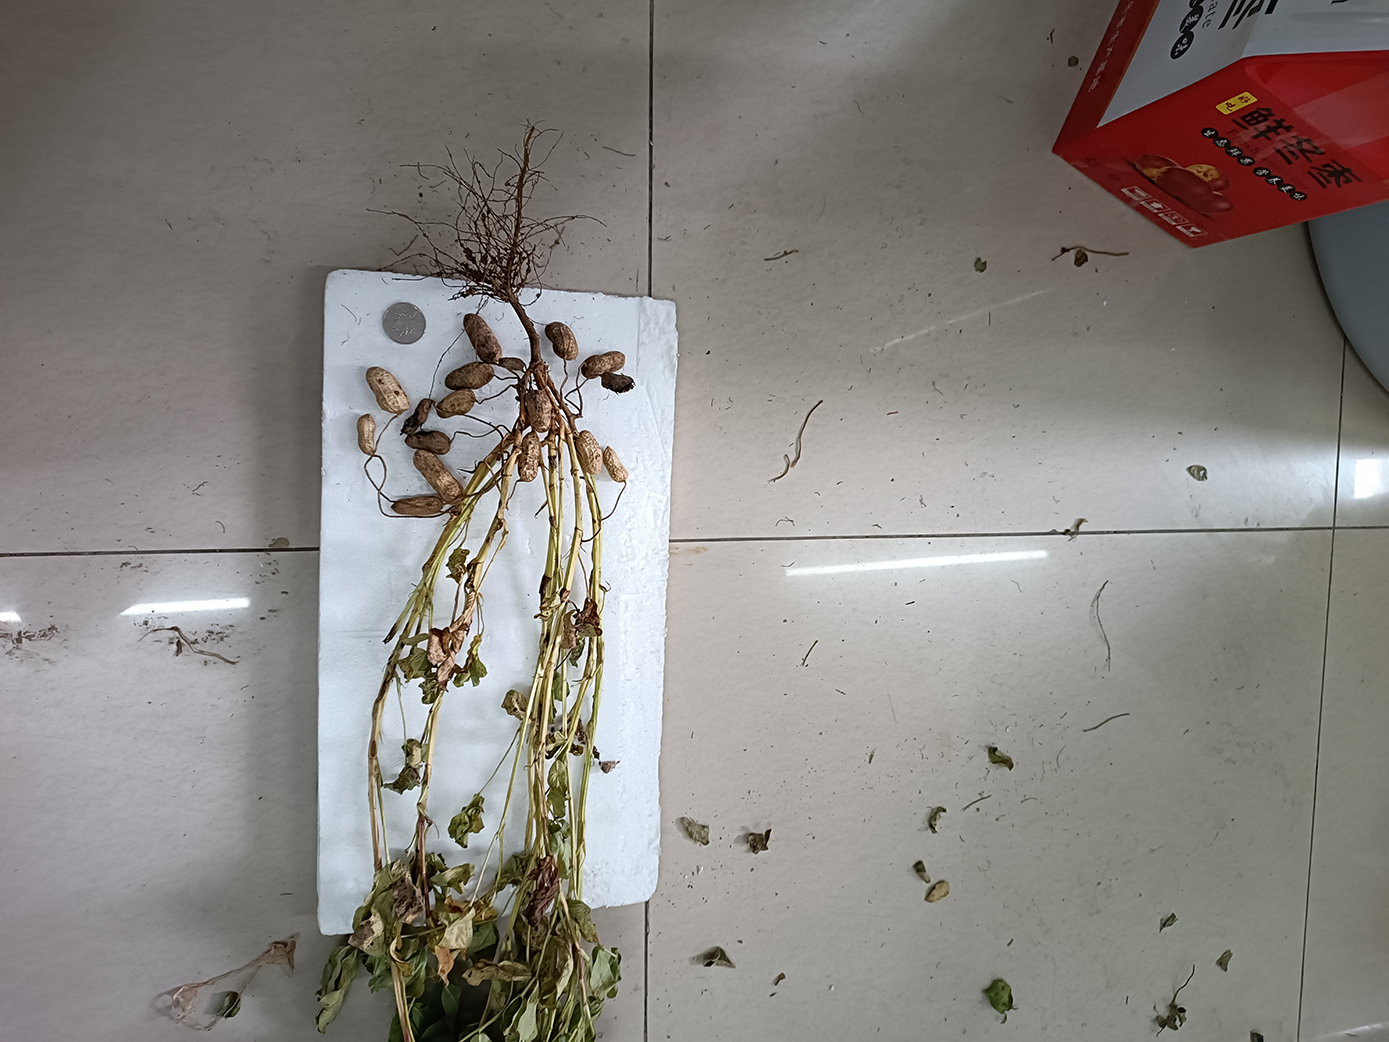h: (412, 448, 461, 501), (364, 366, 410, 413), (545, 322, 579, 361), (576, 430, 604, 475), (436, 389, 475, 419), (524, 389, 551, 433), (518, 432, 540, 482), (603, 445, 628, 483), (357, 413, 377, 456)
l: (463, 313, 502, 364), (444, 361, 494, 390), (580, 351, 626, 379), (401, 398, 435, 435), (404, 429, 450, 455), (390, 495, 444, 516), (601, 371, 635, 395), (498, 356, 526, 371)
